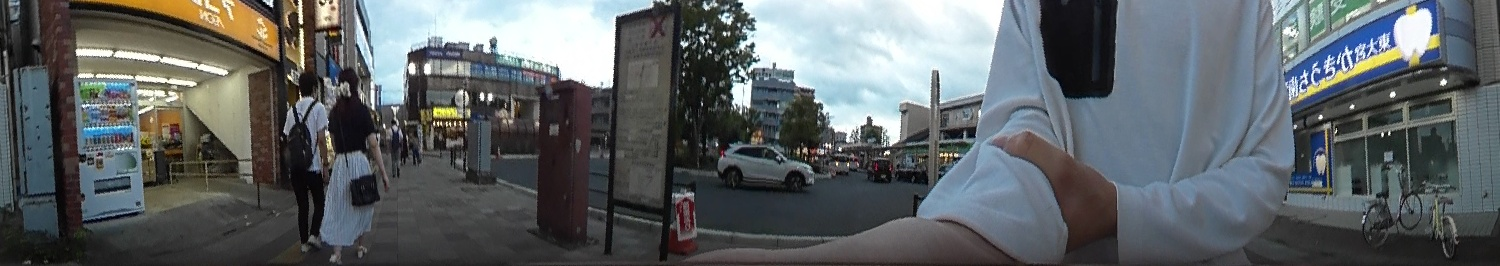difficult_person: (383, 116, 405, 176), (408, 128, 425, 168)
person: (315, 64, 393, 264), (278, 65, 333, 254)
